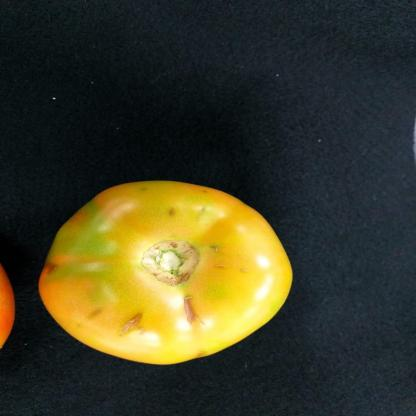T_F_R: (39, 181, 294, 367)
